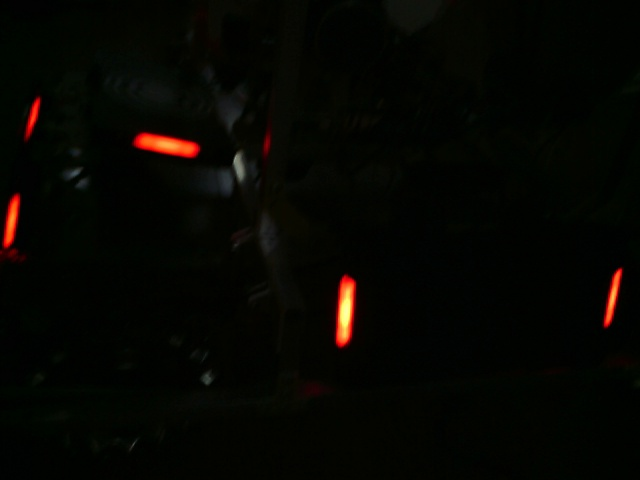lamp: (332, 269, 365, 354), (601, 264, 623, 336)
